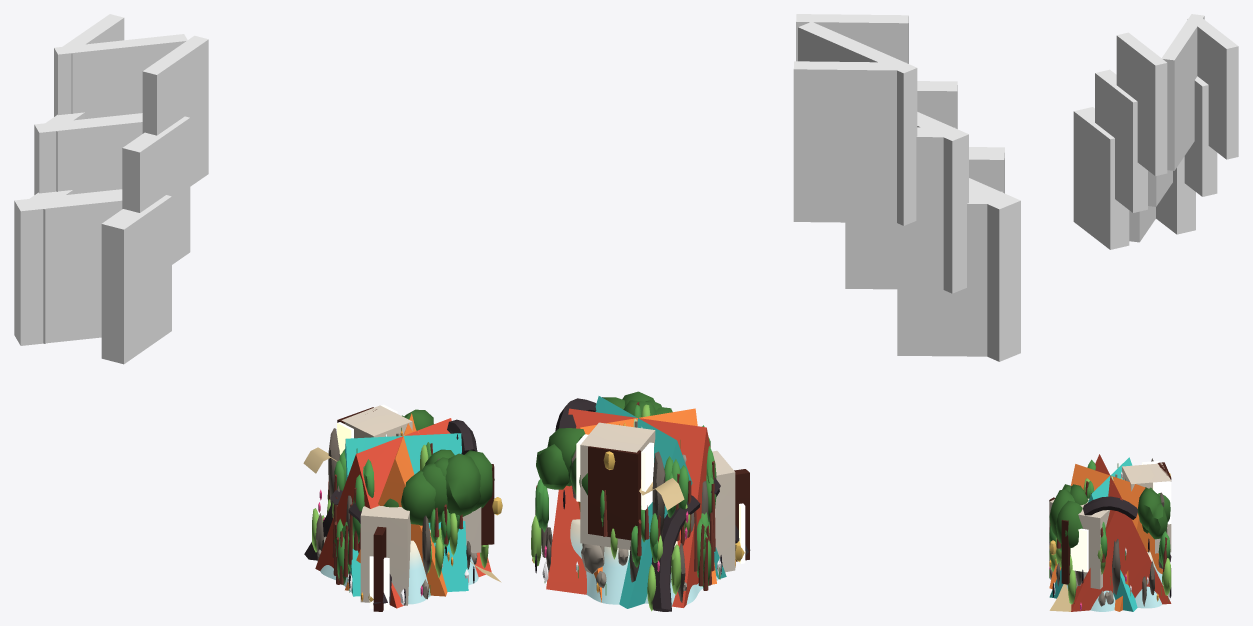
File: ile-geants-v4.glb
The picture shows the model from 3 angles, left to right: view 1: azimuth 30°, elevation 25°; view 2: azimuth 150°, elevation 25°; view 3: azimuth 270°, elevation 25°; orthographic projection. The views are drawn at different scales.
Visible parts, largest first — view 1: geants_decor, geants_z0, geants_z2, geants_z1, geants_terrain; view 2: geants_decor, geants_z2, geants_z0, geants_z1, geants_terrain; view 3: geants_decor, geants_z2, geants_z0, geants_z1, geants_terrain.
Boxes of the visible parts, left/top/right/bottom form: geants_decor: left=303, top=404, right=502, bottom=611; geants_z0: left=14, top=189, right=171, bottom=364; geants_z2: left=54, top=14, right=208, bottom=186; geants_z1: left=34, top=112, right=190, bottom=264; geants_terrain: left=320, top=434, right=478, bottom=604; geants_decor: left=531, top=391, right=750, bottom=611; geants_z2: left=793, top=14, right=917, bottom=225; geants_z0: left=897, top=147, right=1020, bottom=361; geants_z1: left=845, top=81, right=968, bottom=293; geants_terrain: left=546, top=418, right=718, bottom=605; geants_decor: left=1049, top=454, right=1171, bottom=611; geants_z2: left=1116, top=14, right=1238, bottom=175; geants_z0: left=1073, top=107, right=1195, bottom=249; geants_z1: left=1095, top=69, right=1217, bottom=212; geants_terrain: left=1049, top=476, right=1163, bottom=611.
Bounding box in the file's own units: 6.6 × 8.2 × 3.1.
